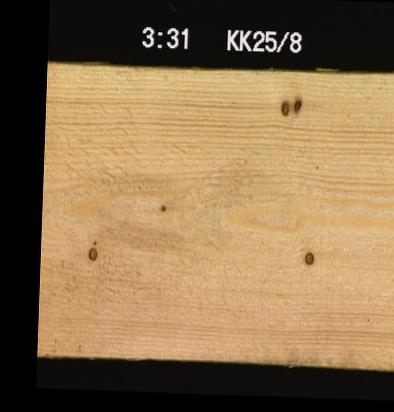dry_knot: (301, 250, 313, 265), (85, 245, 96, 261), (278, 99, 288, 115), (291, 96, 300, 111)
small_knot: (157, 201, 166, 212)
